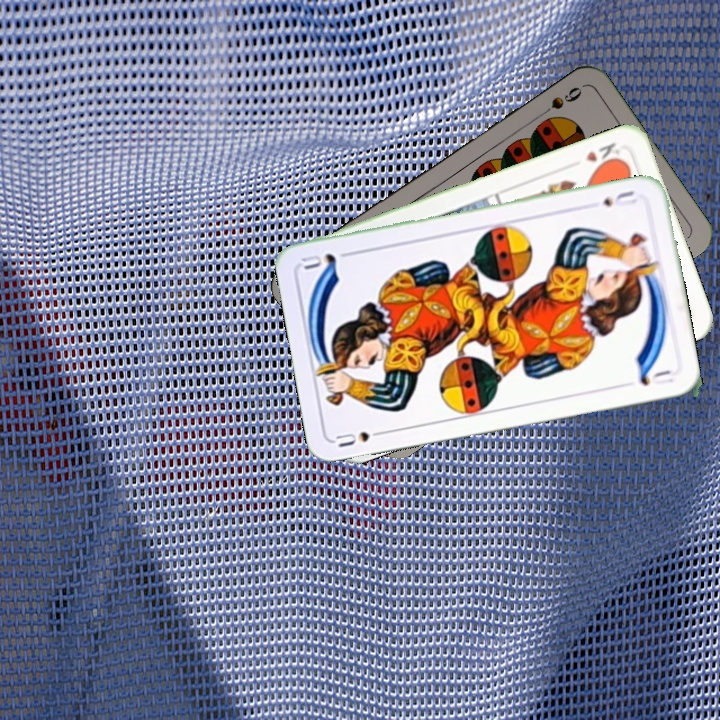HK: (581, 138, 625, 171)
S9: (533, 82, 585, 122)
SU: (331, 425, 390, 450), (598, 186, 640, 210)
